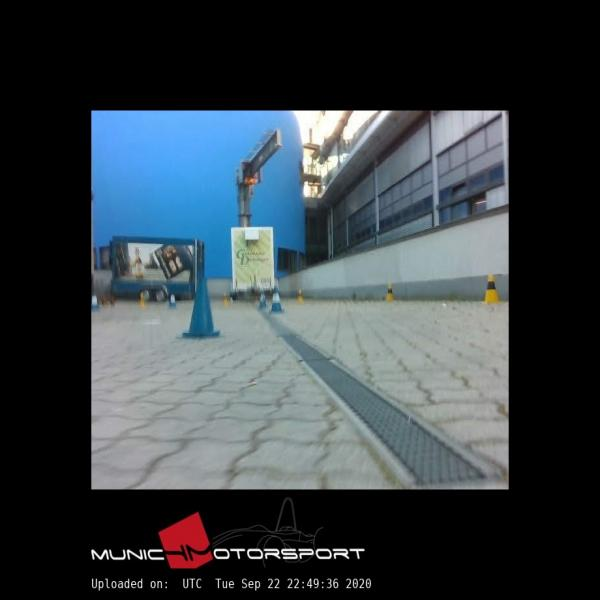blue_cone: (184, 278, 220, 337), (270, 286, 284, 314), (91, 291, 99, 311), (259, 290, 267, 307), (169, 292, 177, 307)
yellow_cone: (483, 274, 500, 304), (386, 282, 396, 301), (138, 290, 146, 306), (222, 293, 229, 308), (298, 289, 305, 302)
